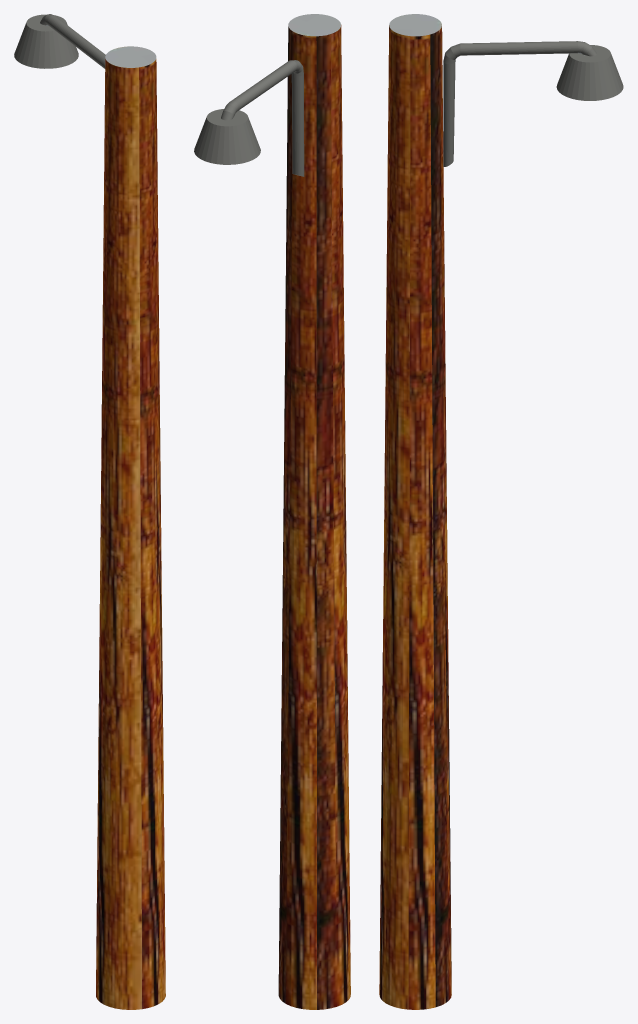
File: junkyard lamppost.glb
The picture shows the model from 3 angles, left to right: view 1: azimuth 30°, elevation 25°; view 2: azimuth 150°, elevation 25°; view 3: azimuth 270°, elevation 25°; orthographic projection. The views are drawn at different scales.
Parts seen in each view (by area): view 1: Cylinder; view 2: Cylinder; view 3: Cylinder.
Boxes of the visible parts, bbox=[...] form: Cylinder: bbox=[14, 14, 165, 1009]; Cylinder: bbox=[194, 14, 350, 1009]; Cylinder: bbox=[379, 14, 623, 1009].
Bounding box in the file's own units: 0.477 × 7.04 × 1.61.
3 materials, 1 textured.
